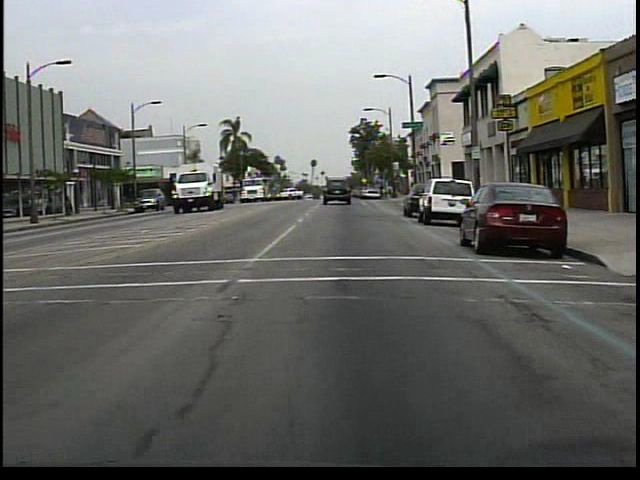person: (67, 193, 76, 218)
